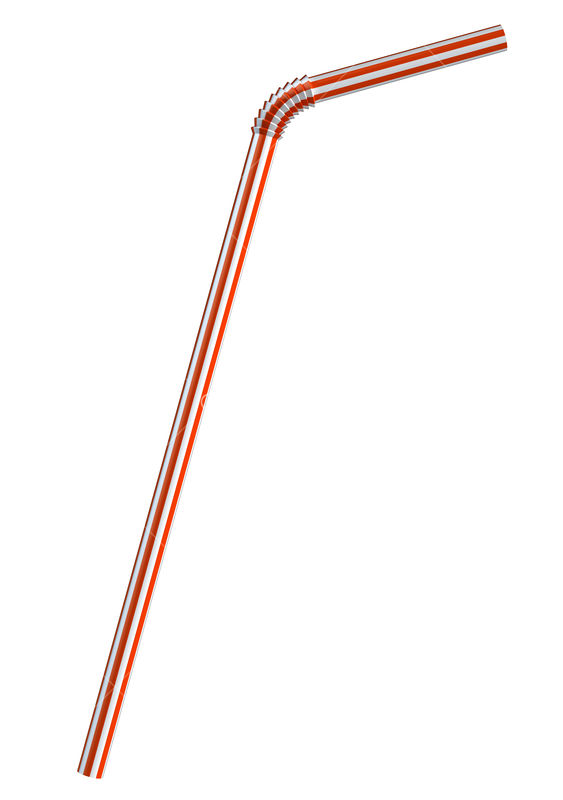Drinking Straw: (71, 19, 512, 782)
